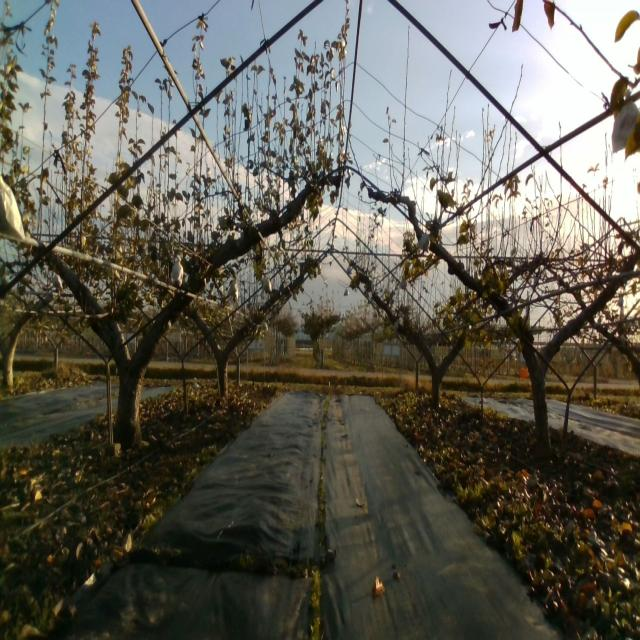pearbags: (0, 168, 26, 240), (611, 88, 640, 152), (171, 256, 184, 287), (415, 232, 430, 254), (229, 281, 239, 302)
